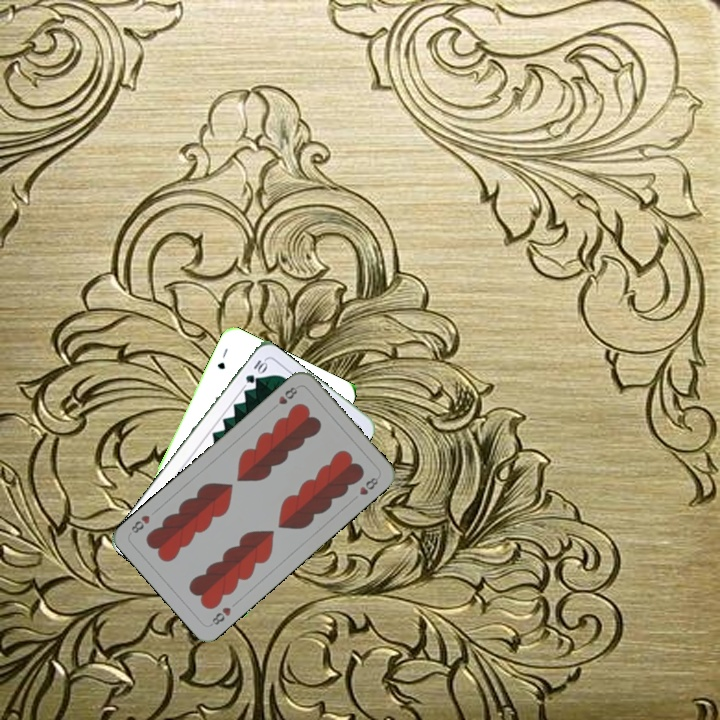G10: (241, 356, 270, 386)
GU: (213, 344, 230, 372)
H8: (206, 603, 234, 629), (275, 382, 300, 407)
